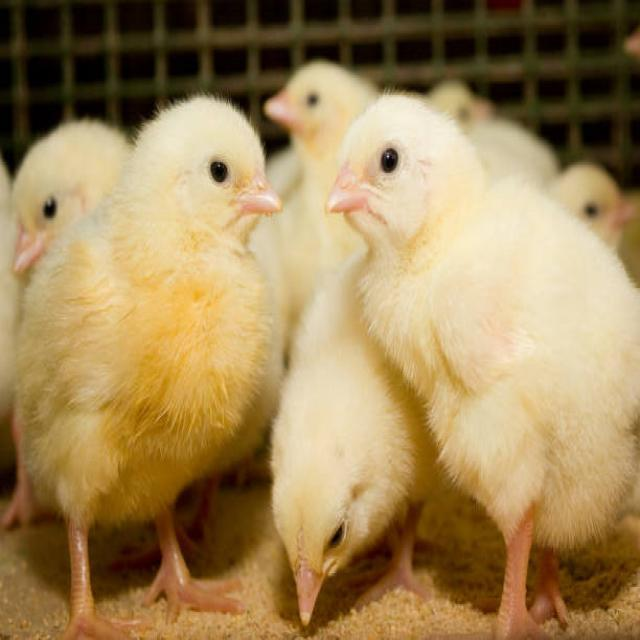Healthy: (317, 83, 636, 604), (15, 85, 287, 600)
